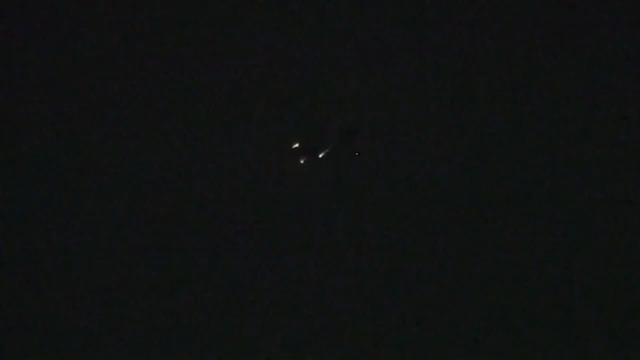Plane: (266, 136, 341, 172)
